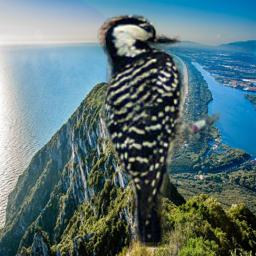Woodpecker: (97, 10, 222, 250)
